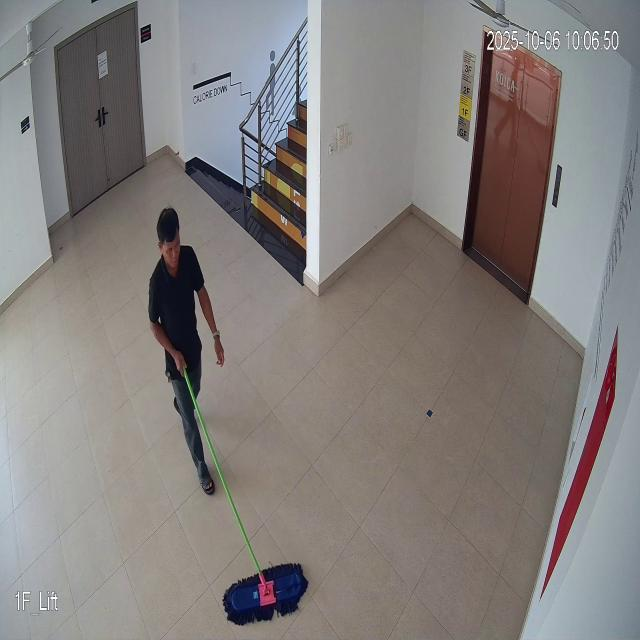face: (156, 202, 184, 280)
